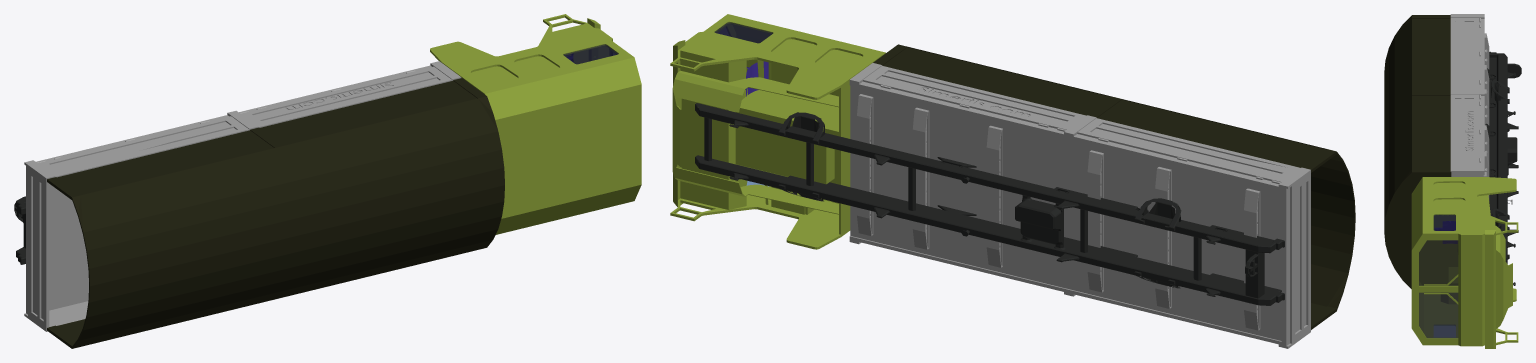
The model's file is man10t_chassis.obj.
3 renders of one model, left to right at view 1: azimuth 30°, elevation 25°; view 2: azimuth 150°, elevation 25°; view 3: azimuth 270°, elevation 25°, orthographic. The views are drawn at different scales.
Visible parts, largest first — view 1: SOLID8, SOLID2, SOLID7, SOLID3; view 2: SOLID7, SOLID2, SOLID10, SOLID8, SOLID3; view 3: SOLID2, SOLID8, SOLID7, SOLID10, SOLID6, SOLID5, SOLID3, SOLID4, SOLID9.
Boxes of the visible parts, left/top/right/bottom form: SOLID8: left=47, top=78, right=504, bottom=348; SOLID2: left=430, top=14, right=641, bottom=234; SOLID7: left=24, top=61, right=461, bottom=331; SOLID3: left=563, top=44, right=618, bottom=64; SOLID7: left=849, top=63, right=1310, bottom=348; SOLID2: left=670, top=14, right=885, bottom=249; SOLID10: left=695, top=103, right=1284, bottom=305; SOLID8: left=873, top=44, right=1355, bottom=329; SOLID3: left=714, top=22, right=772, bottom=43; SOLID2: left=1411, top=177, right=1518, bottom=348; SOLID8: left=1384, top=15, right=1451, bottom=288; SOLID7: left=1450, top=14, right=1489, bottom=200; SOLID10: left=1485, top=51, right=1521, bottom=285; SOLID6: left=1419, top=292, right=1458, bottom=338; SOLID5: left=1419, top=240, right=1458, bottom=285; SOLID3: left=1433, top=214, right=1455, bottom=230; SOLID4: left=1434, top=325, right=1455, bottom=336; SOLID9: left=1435, top=221, right=1457, bottom=243.
Bounding box in the file's own units: 9.72 × 2.47 × 2.59.
